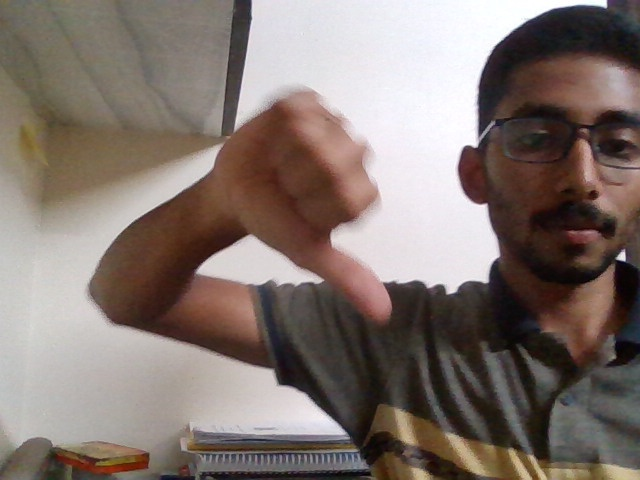No: (202, 71, 411, 342)
